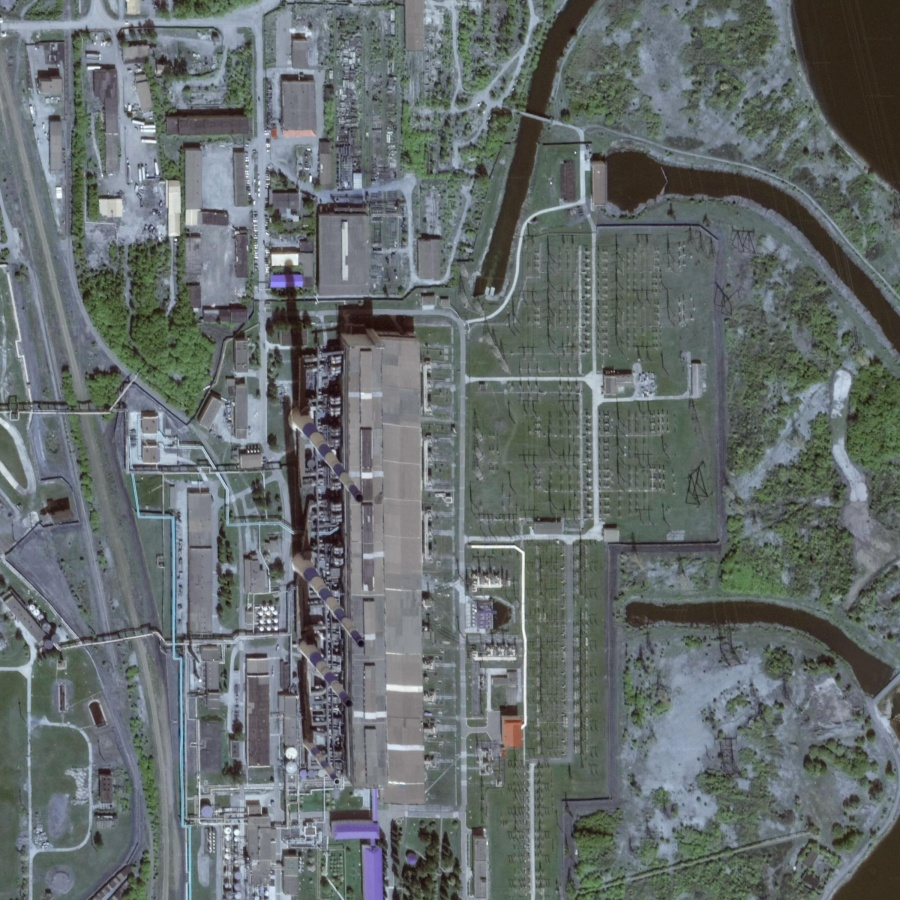PowerPlant: (249, 325, 408, 794)
